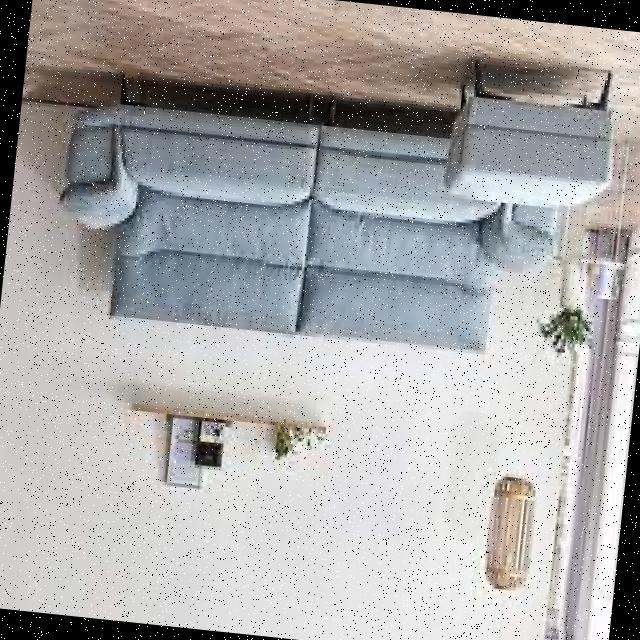Sofa: (25, 48, 595, 384)
